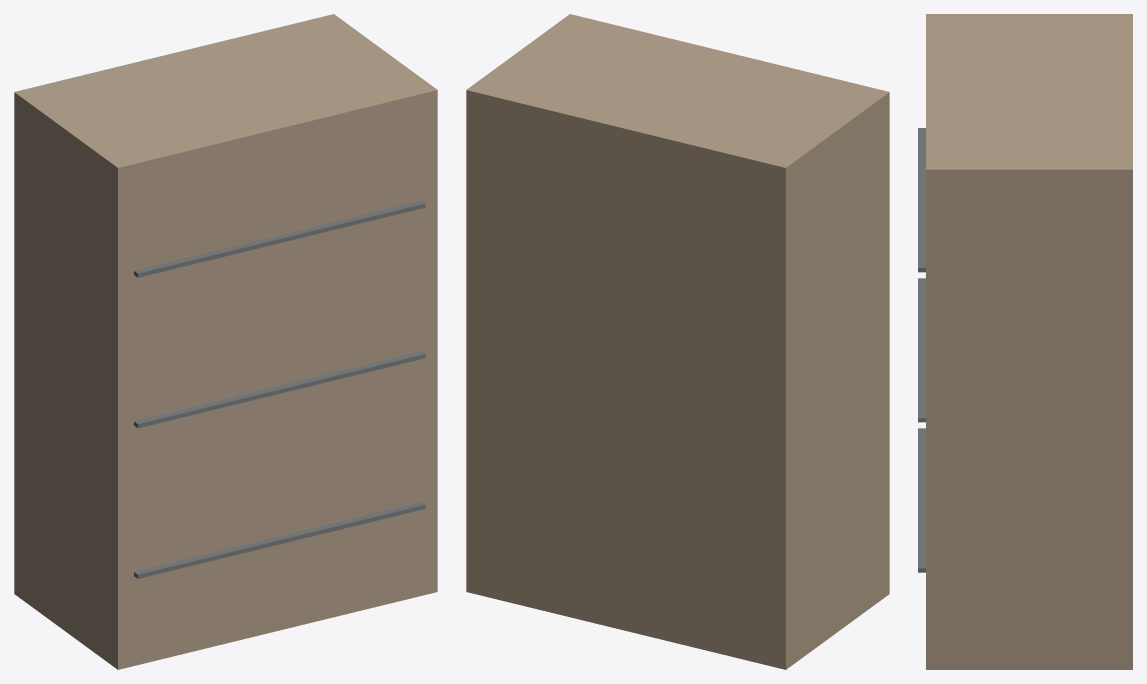
Rendered from chest-tall.glb.
3 renders of one model, left to right at view 1: azimuth 30°, elevation 25°; view 2: azimuth 150°, elevation 25°; view 3: azimuth 270°, elevation 25°, orthographic.
Parts seen in each view (by area): view 1: chest-tall_0, chest-tall_1, chest-tall_3, chest-tall_2; view 2: chest-tall_0; view 3: chest-tall_0, chest-tall_1, chest-tall_2, chest-tall_3.
Boxes of the visible parts, x1=… form: chest-tall_0: x1=14, y1=14, x2=437, y2=669; chest-tall_1: x1=134, y1=502, x2=425, y2=578; chest-tall_3: x1=134, y1=200, x2=425, y2=277; chest-tall_2: x1=134, y1=351, x2=425, y2=428; chest-tall_0: x1=466, y1=14, x2=889, y2=669; chest-tall_0: x1=926, y1=14, x2=1132, y2=669; chest-tall_1: x1=918, y1=428, x2=925, y2=572; chest-tall_2: x1=918, y1=278, x2=925, y2=422; chest-tall_3: x1=918, y1=128, x2=925, y2=272.
Bounding box in the file's own units: 0.8 × 1.2 × 0.467.
